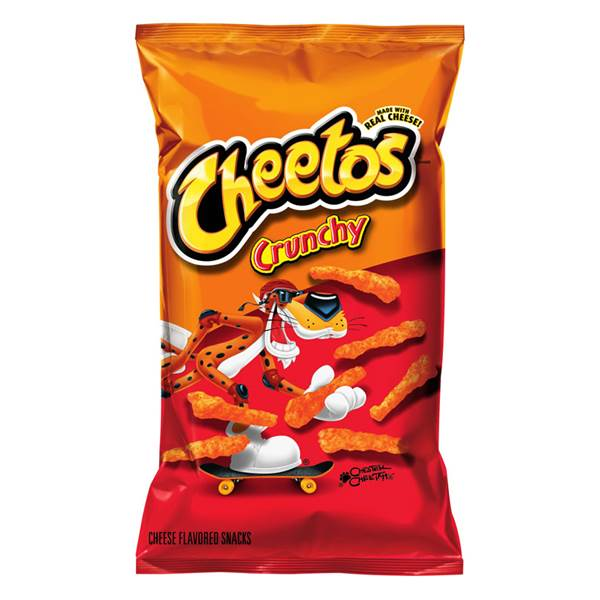cheetos: (135, 26, 464, 577)
